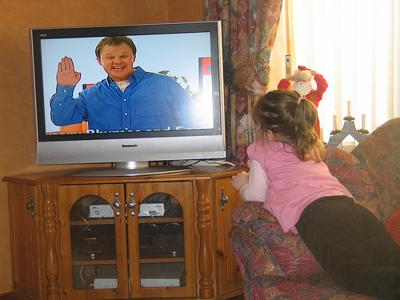person: (230, 90, 400, 299)
